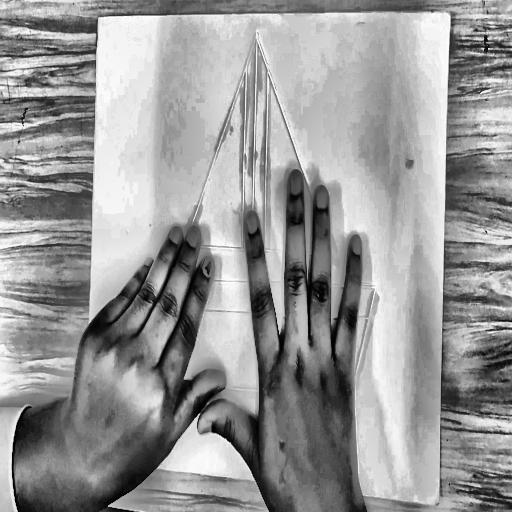boat: (121, 15, 389, 412)
bottom_left: (84, 433, 91, 446)
bottom_right: (434, 497, 441, 510)
top_left: (94, 11, 103, 26)
top_right: (445, 7, 455, 25)
